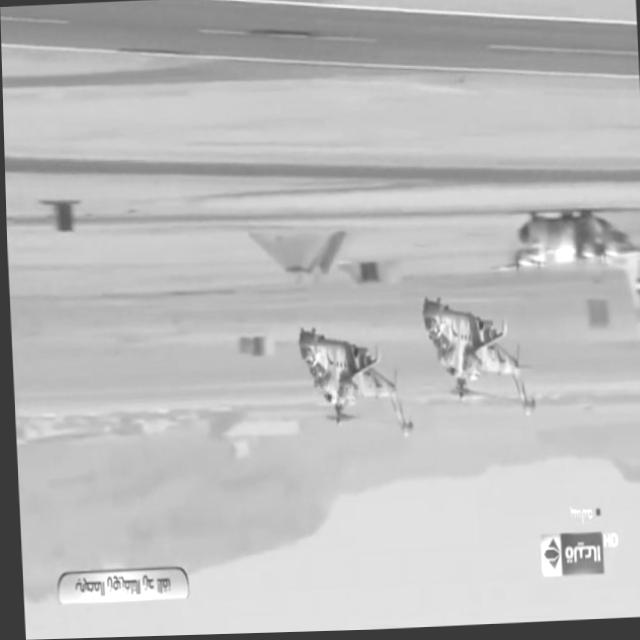helikopter: (280, 322, 407, 455), (409, 311, 527, 428)
